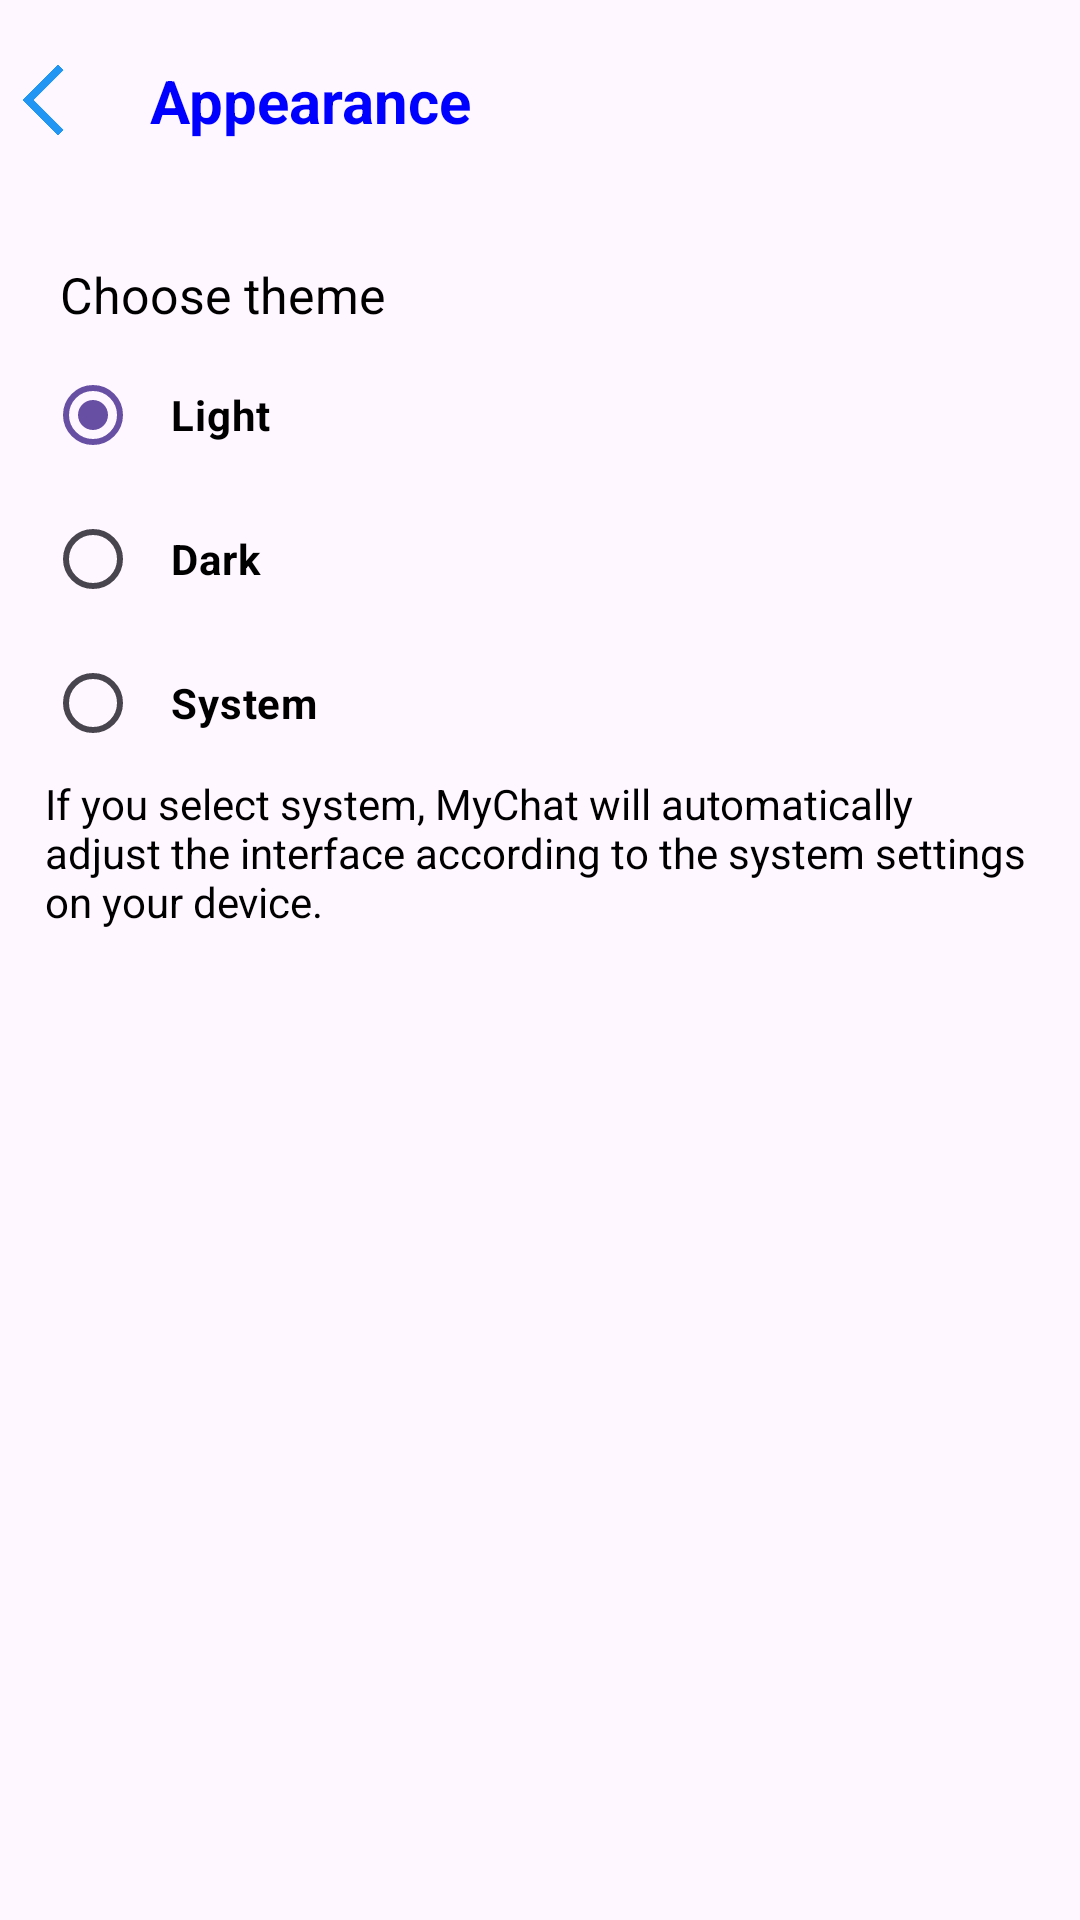

Where icons sit on this 1080×1920 app screen, as box=[x1, y1, x2, y2]:
back: box=[23, 65, 64, 135]
